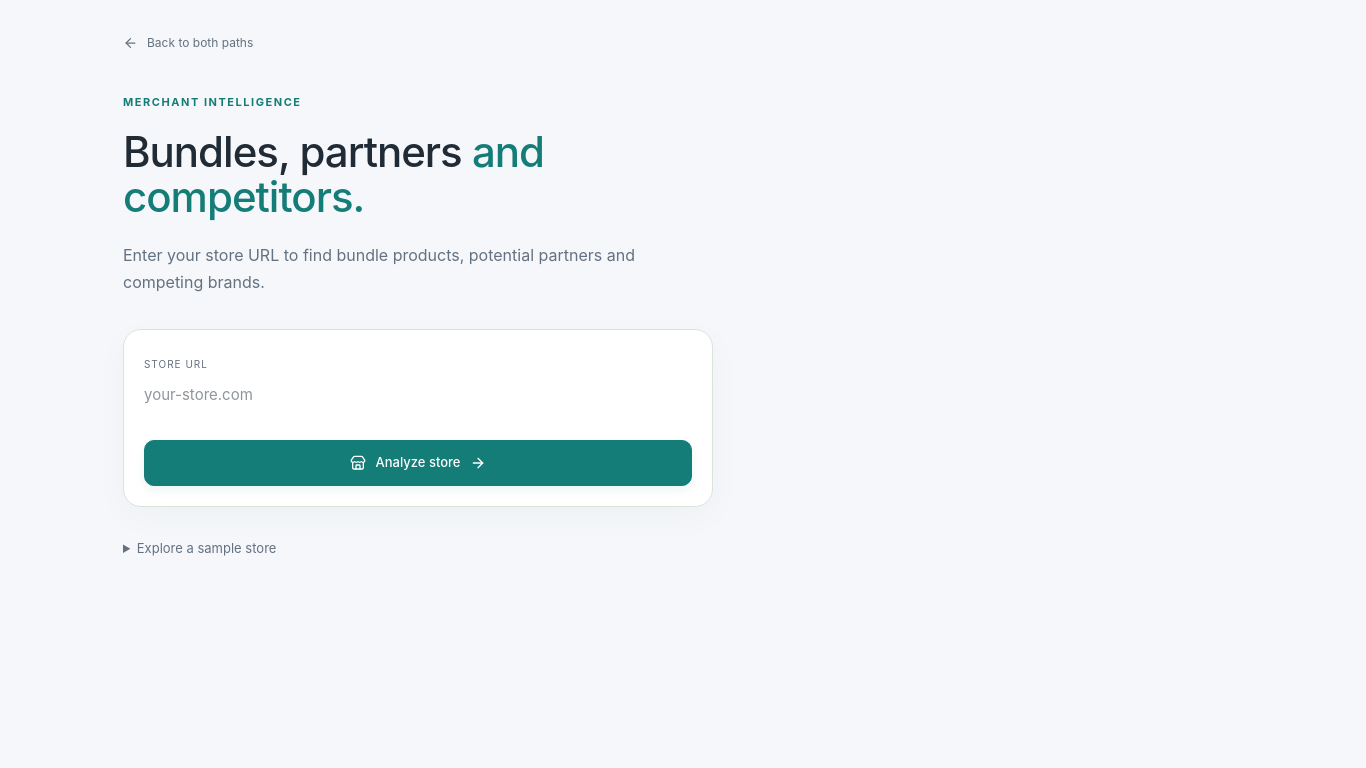
Test case: MerchantWorkspace › reloads the current draft after a revision conflict so a later save can succeed
Type "https://outfit-brand-1.example/" into the field named "Public store URL". click: coordinates (418, 395)
box: [144,374,692,416]
Click the button "Analyze store". click: coordinates (418, 463)
box: [144,440,692,486]
(page scrolled)
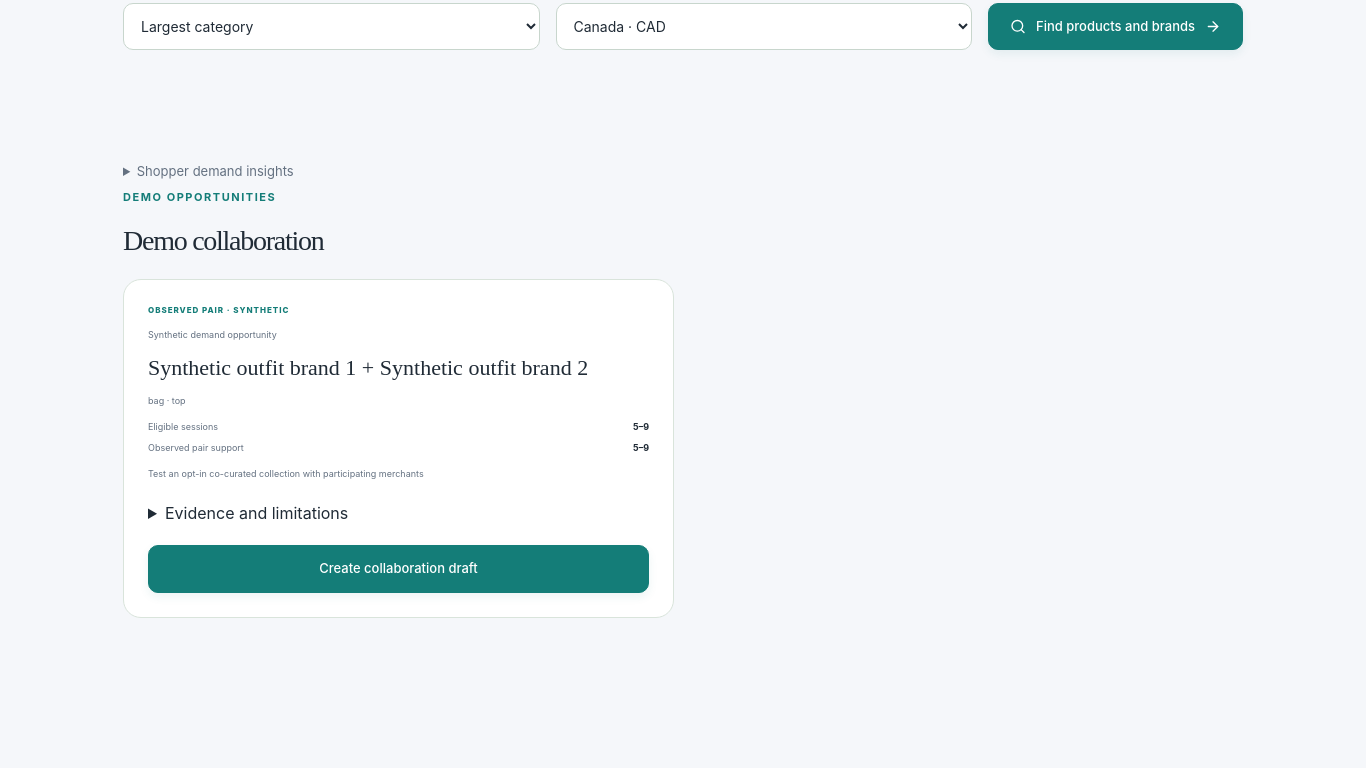
Click the button "Create collaboration draft". click: coordinates (398, 569)
box: [148,545,649,593]
(page scrolled)
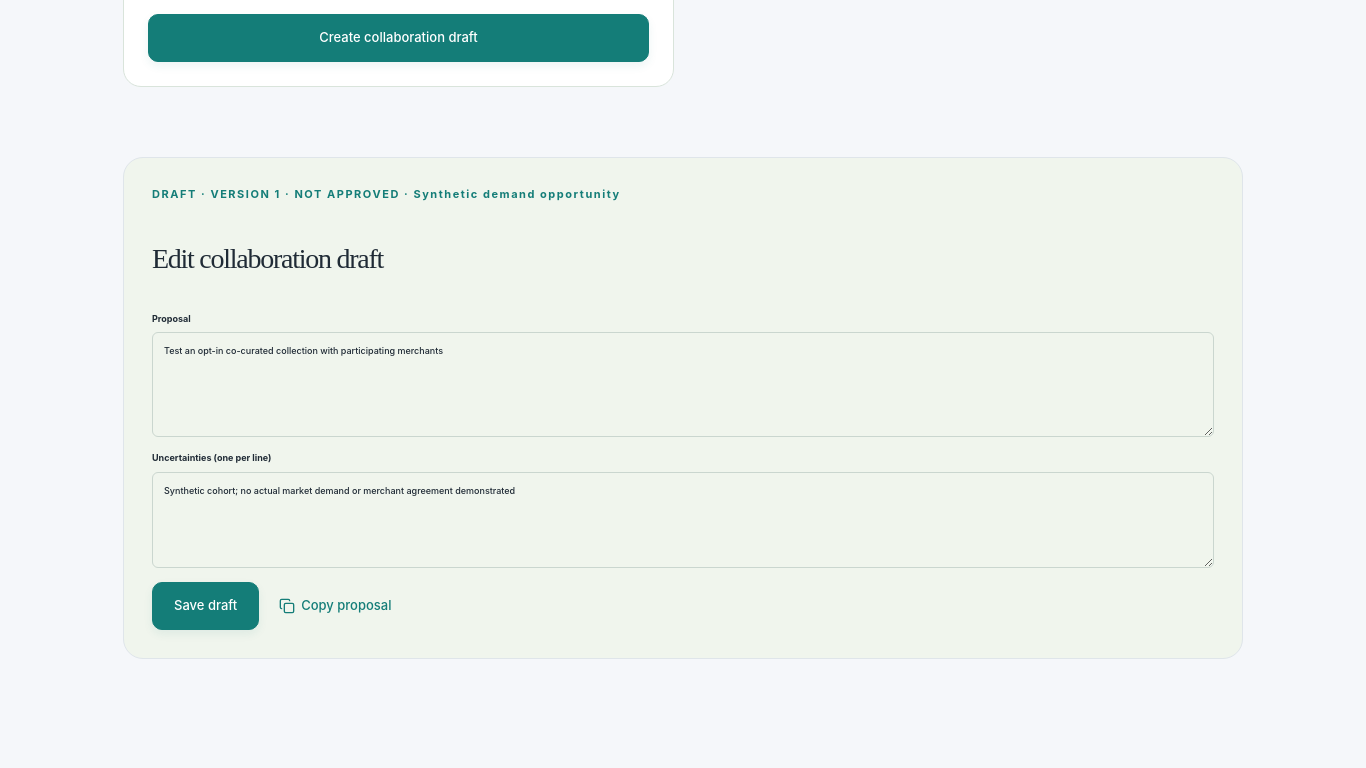
Result: the text "DRAFT · VERSION 1" is shown at [152,187,621,201]
Replace the text in the text box showing "Test an opt-in co-curated collection with participating merchants" with "Stale local edit". click: coordinates (683, 385)
box: [152,332,1214,437]
Click the button "Save draft". click: coordinates (206, 606)
box: [152,582,259,630]
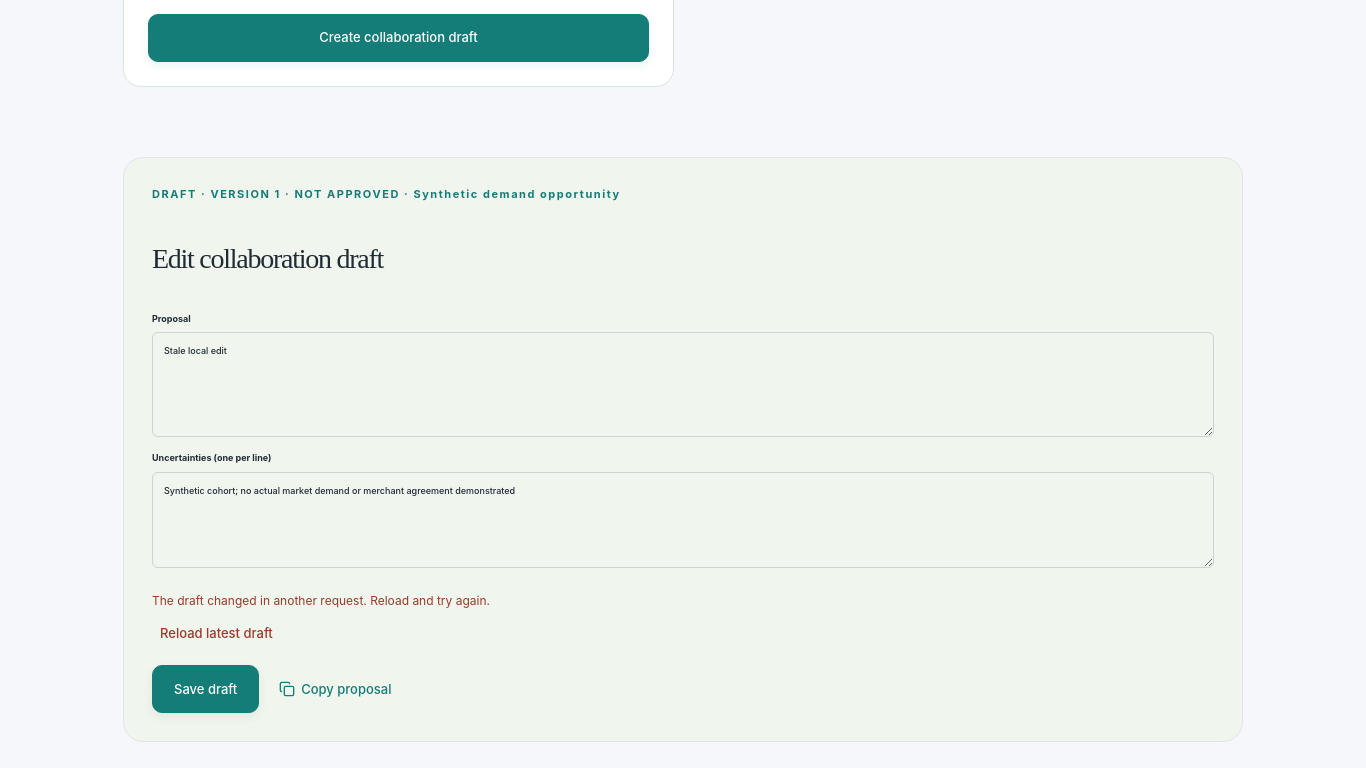
Result: the button "Reload latest draft" is shown
Click the button "Reload latest draft". click: coordinates (216, 634)
box: [152,616,281,651]
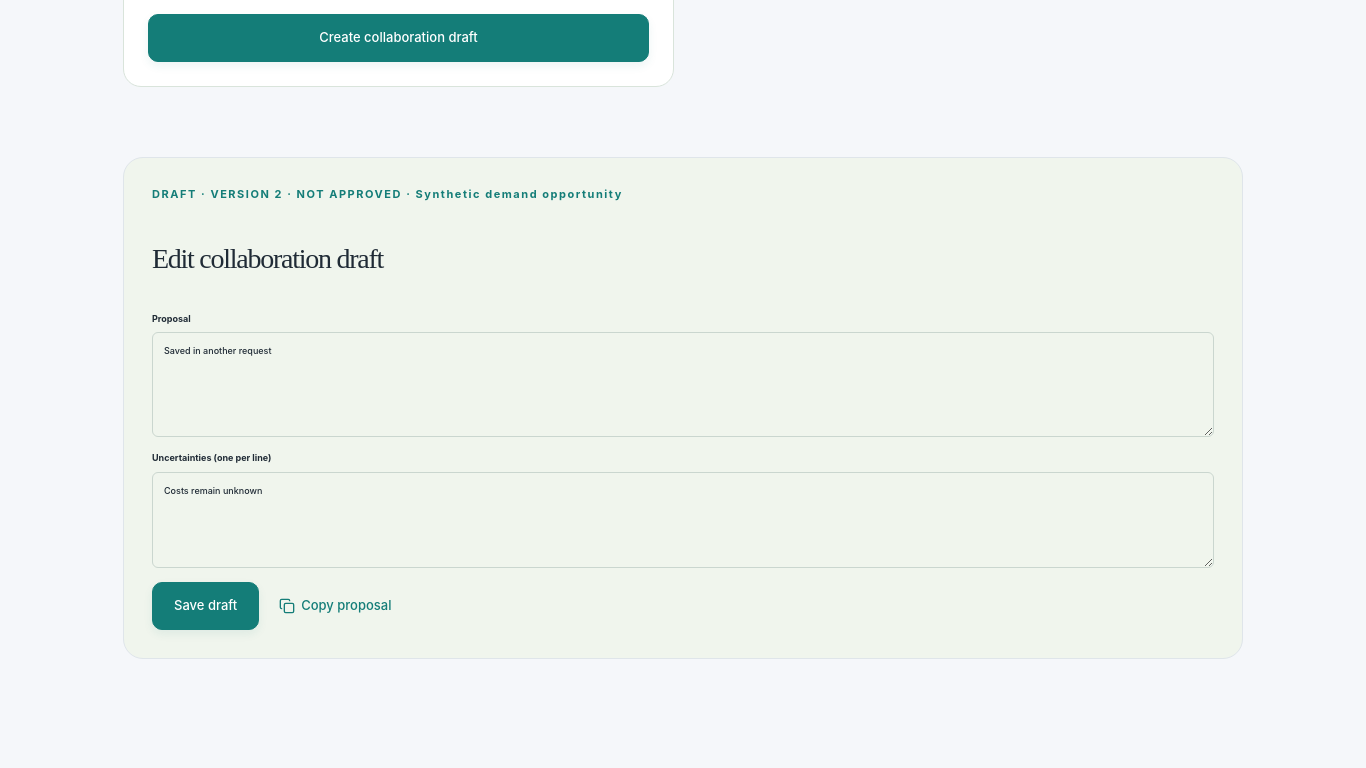
Result: the text "DRAFT · VERSION 2" is shown at [152,187,623,201]
Result: the text box showing "Saved in another request" is shown
Result: the button "Reload latest draft" is gone
Replace the text in the text box showing "Saved in another request" with "Reconciled synthetic proposal". click: coordinates (683, 385)
box: [152,332,1214,437]
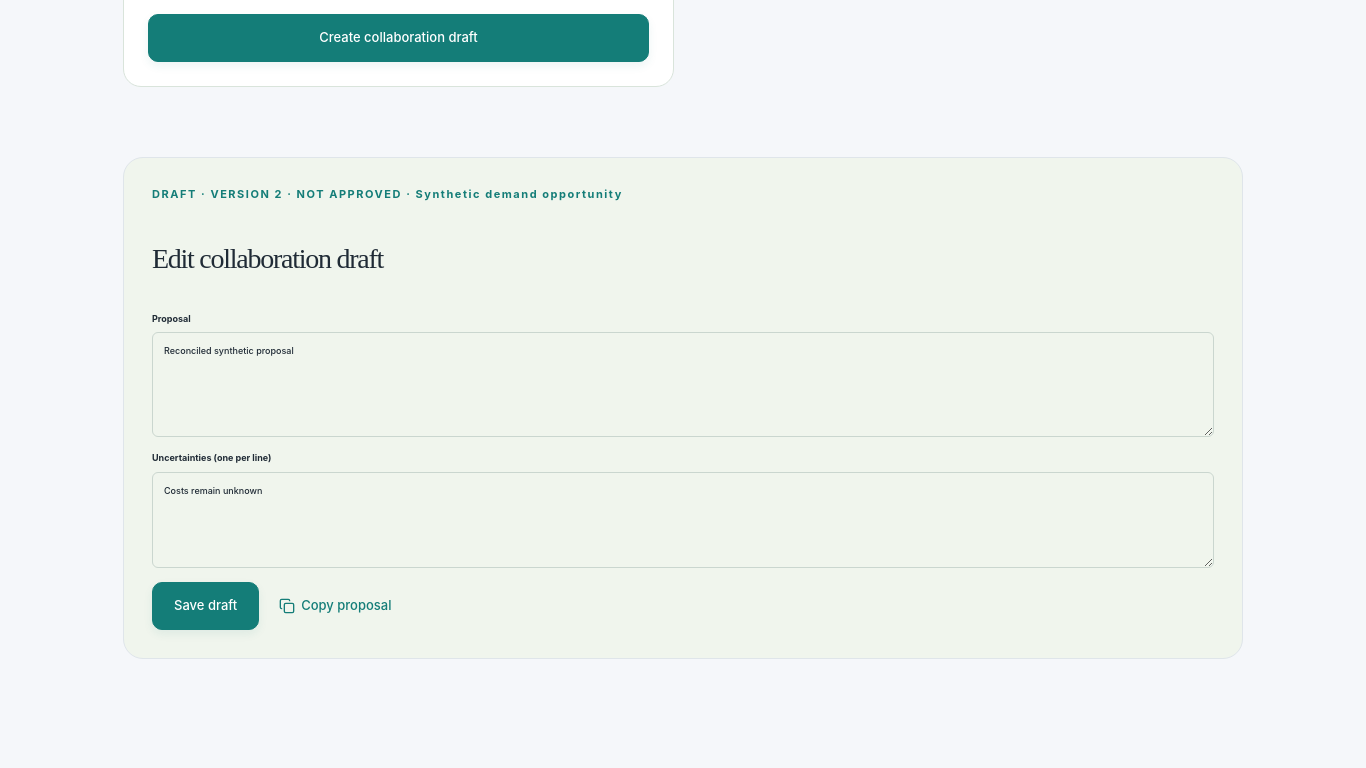
Click the button "Save draft". click: coordinates (206, 606)
box: [152,582,259,630]
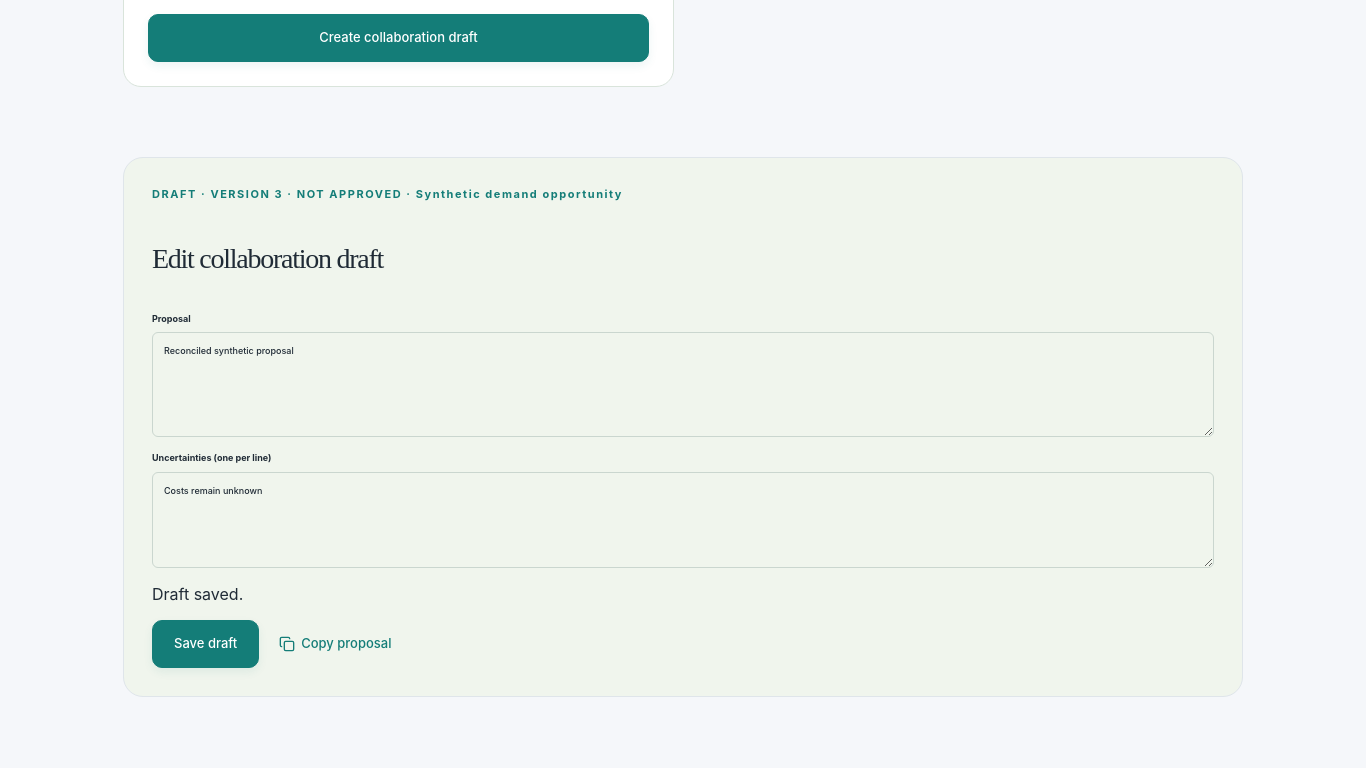
Result: the text "DRAFT · VERSION 3" is shown at [152,187,623,201]
